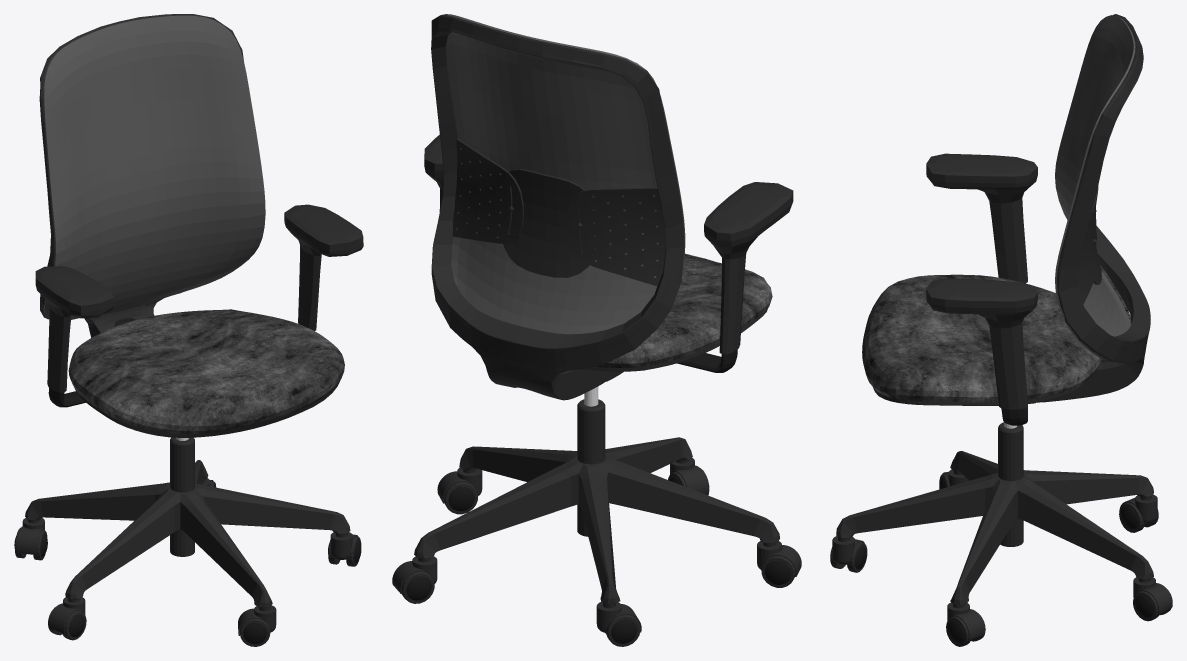
The model's file is office-chair-source.glb.
The picture shows the model from 3 angles, left to right: view 1: azimuth 30°, elevation 25°; view 2: azimuth 150°, elevation 25°; view 3: azimuth 270°, elevation 25°; orthographic projection. The views are drawn at different scales.
Parts seen in each view (by area): view 1: Office_Chairs_Modern_01_0_3; view 2: Office_Chairs_Modern_01_0_3; view 3: Office_Chairs_Modern_01_0_3.
Boxes of the visible parts, x1,y1,x2,y2 form: Office_Chairs_Modern_01_0_3: [14, 14, 363, 646]; Office_Chairs_Modern_01_0_3: [392, 14, 801, 646]; Office_Chairs_Modern_01_0_3: [830, 14, 1172, 646].
Size of the model in its own units: 0.6994 by 1.09 by 0.644.
5 materials, 1 textured.
